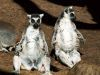cat: (10, 12, 54, 73), (53, 6, 84, 72)
